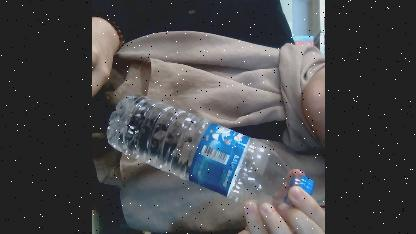Plastic Bottle: (106, 96, 314, 210)
